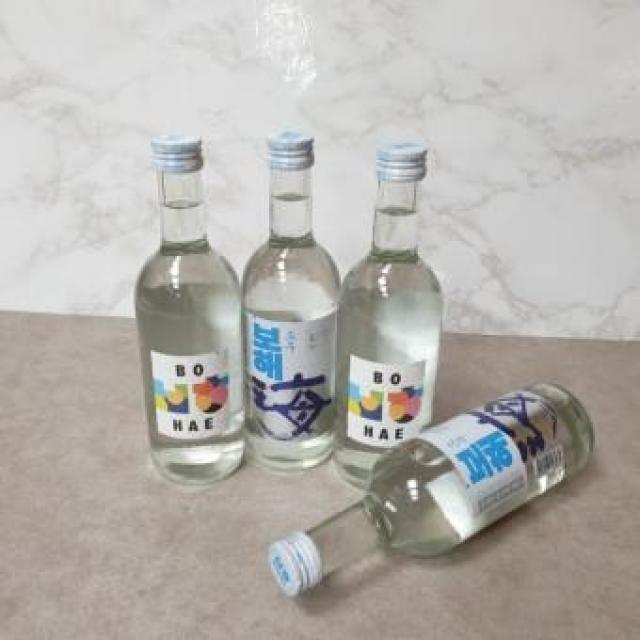soju-bottle: (270, 382, 594, 597), (133, 133, 244, 486), (332, 142, 444, 490), (241, 132, 343, 472)
